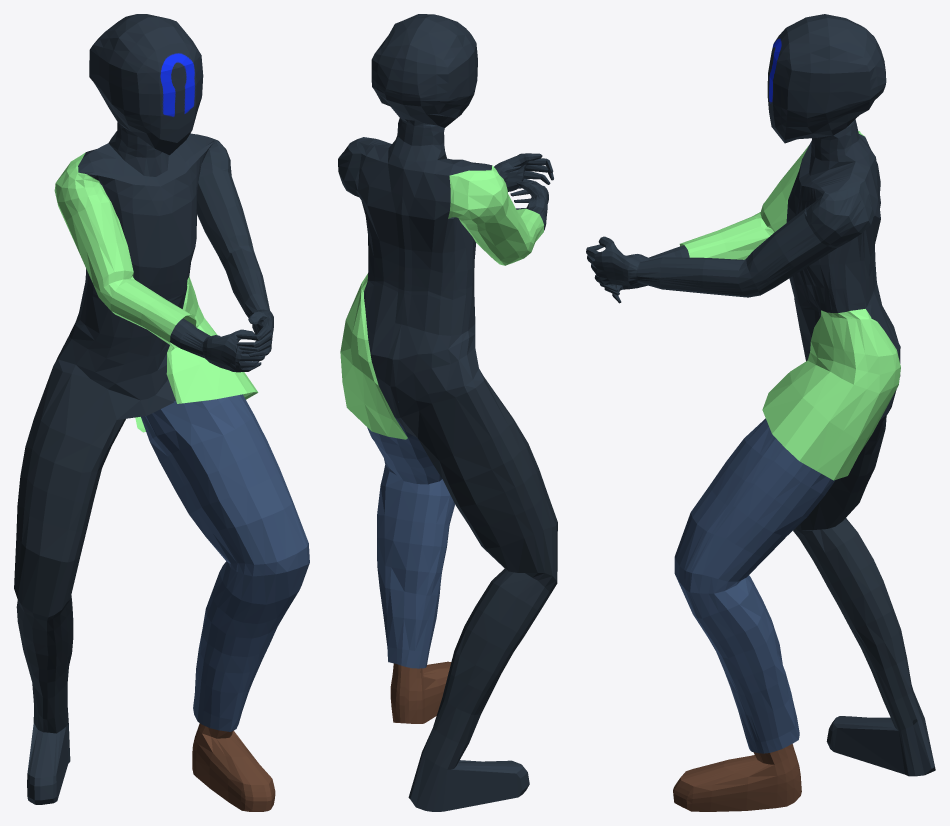
File: Mar_WF_000024.obj
3 views of the same model, side by side, from view 1: azimuth 30°, elevation 25°; view 2: azimuth 150°, elevation 25°; view 3: azimuth 270°, elevation 25° (orthographic). The views are drawn at different scales.
Parts seen in each view (by area): view 1: Cube.000_Cube.001; view 2: Cube.000_Cube.001; view 3: Cube.000_Cube.001.
Boxes of the visible parts, x1,y1,x2,y2 form: Cube.000_Cube.001: (14,14,309,811); Cube.000_Cube.001: (338,14,557,811); Cube.000_Cube.001: (586,14,935,811).
Size of the model in its own units: 1.16 by 3.69 by 1.5.
